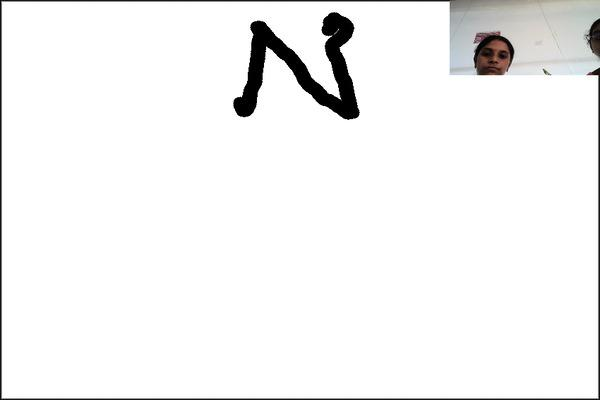N: (227, 7, 366, 126)
